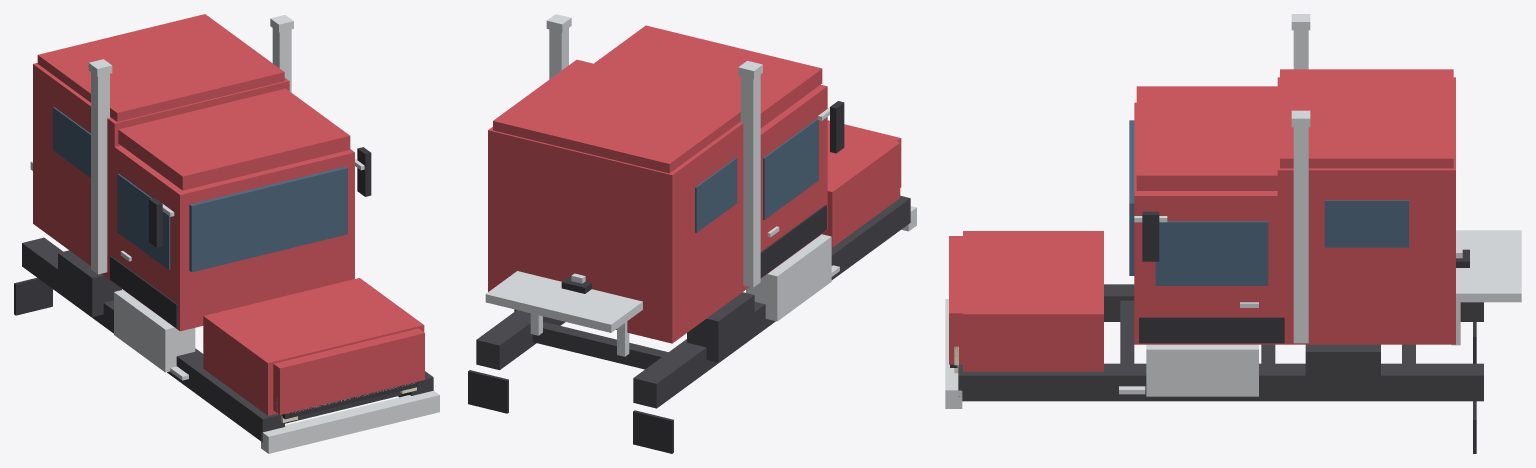
Rendered from tractor.glb.
The picture shows the model from 3 angles, left to right: view 1: azimuth 30°, elevation 25°; view 2: azimuth 150°, elevation 25°; view 3: azimuth 270°, elevation 25°; orthographic projection. The views are drawn at different scales.
Parts seen in each view (by area): view 1: tractor; view 2: tractor; view 3: tractor.
Part boxes in pixels (x1=…): tractor: x1=14, y1=14, x2=439, y2=453; tractor: x1=468, y1=14, x2=916, y2=453; tractor: x1=945, y1=14, x2=1521, y2=453.
Bounding box in the file's own units: 2.88 × 3.95 × 6.14.
